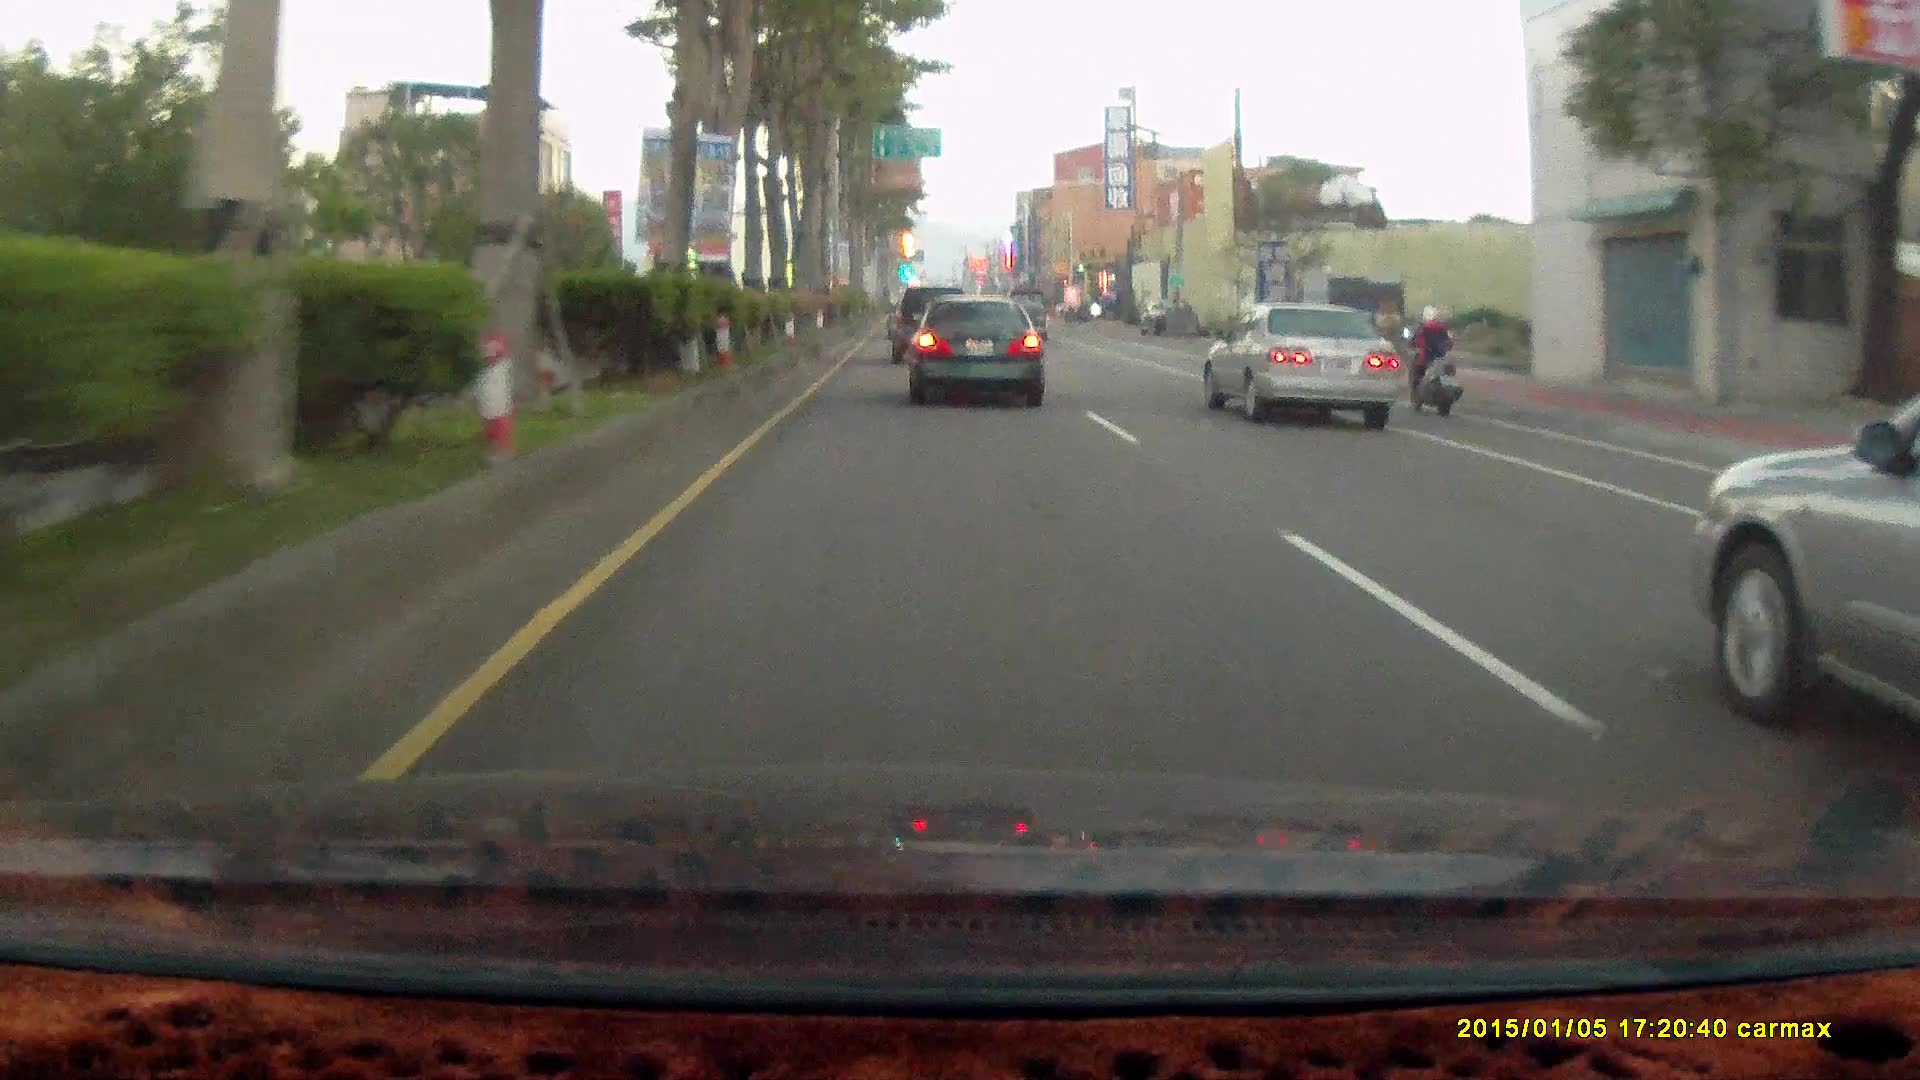rider: (1392, 293, 1472, 423), (1398, 301, 1463, 415)
vehicle: (1704, 386, 1920, 766), (1198, 300, 1400, 427), (1211, 302, 1404, 428), (905, 294, 1045, 406), (905, 294, 1043, 401), (1290, 276, 1405, 368), (890, 284, 972, 365), (889, 283, 972, 364), (1004, 288, 1049, 340), (1088, 285, 1147, 320)
